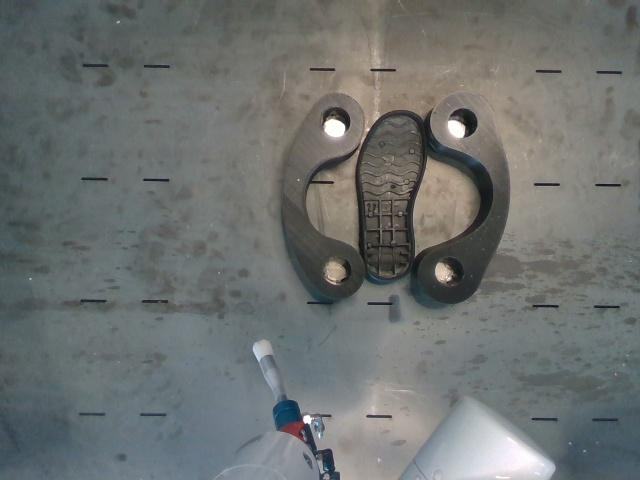shoes: (359, 111, 426, 279)
